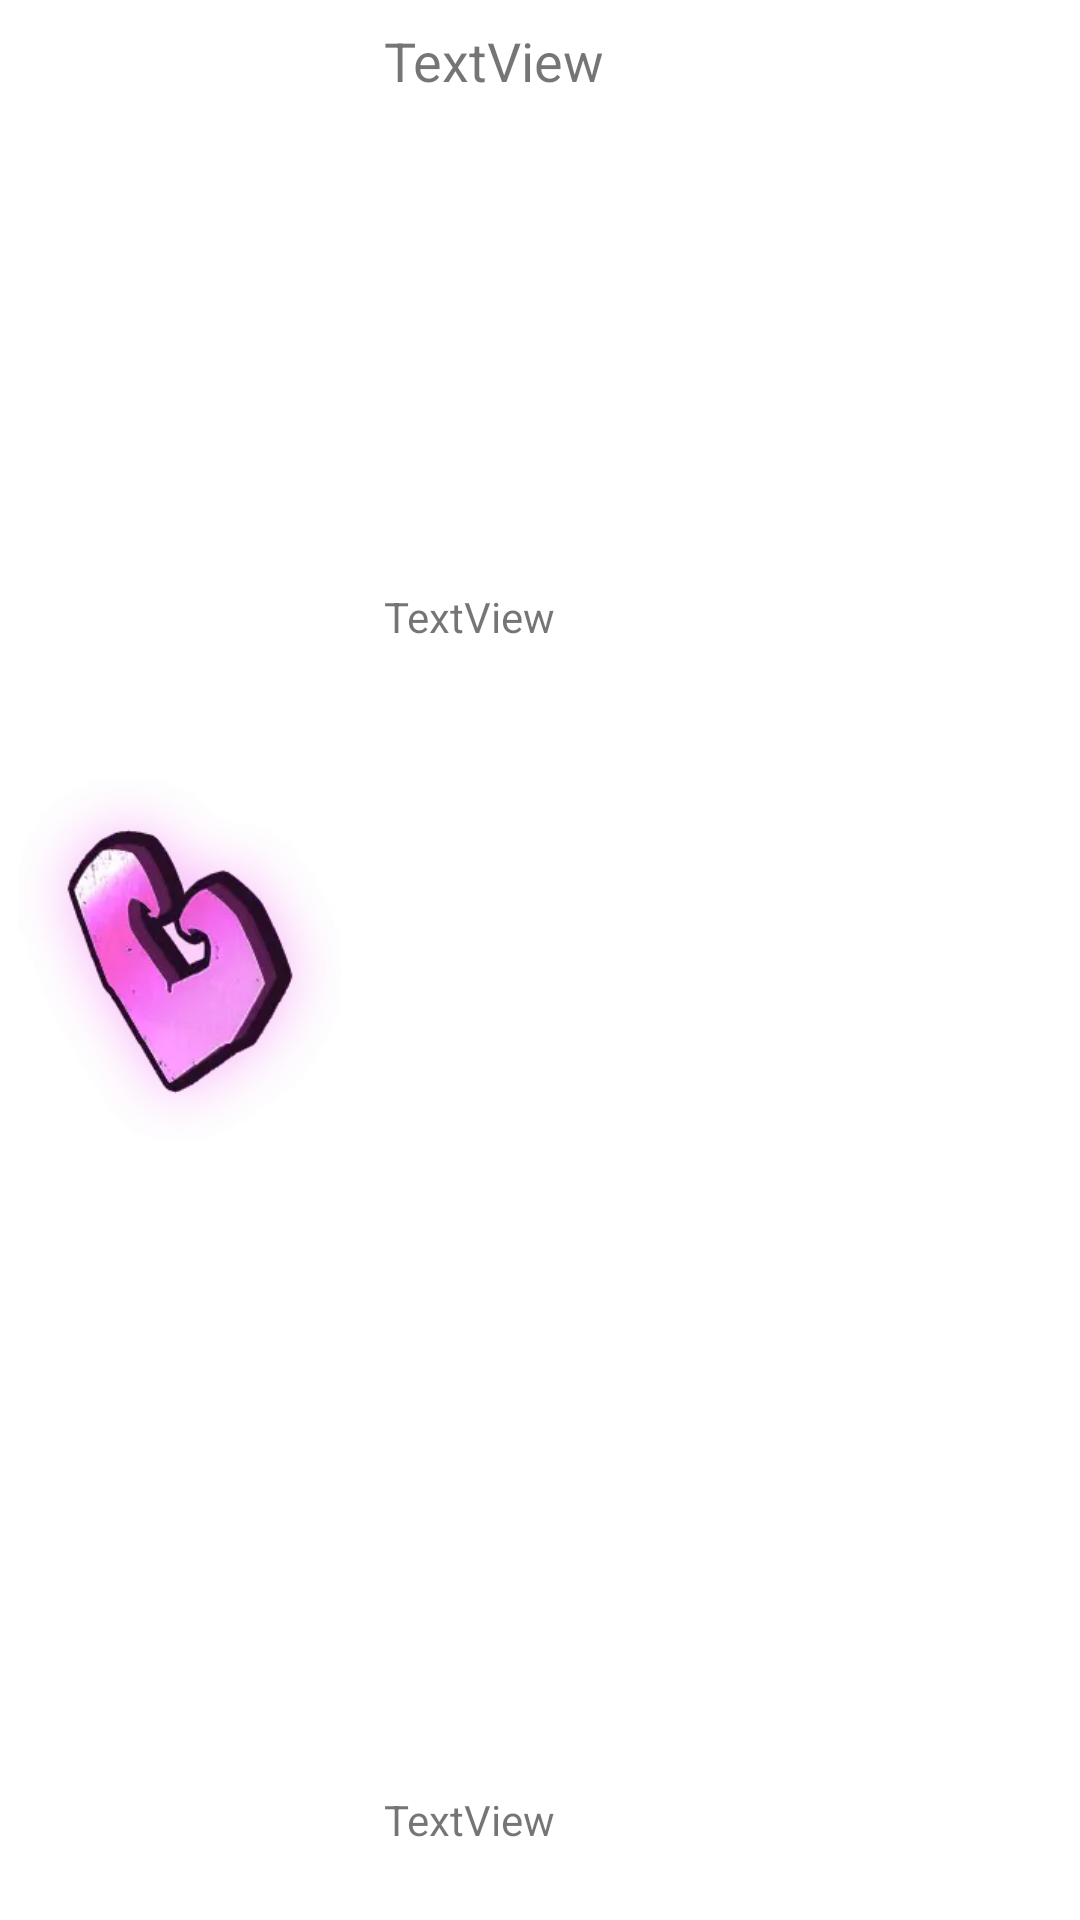

Where to tap for icons on this 1080w x 1920h app screen, as (x,y):
aphrodite reward: (179,959)
